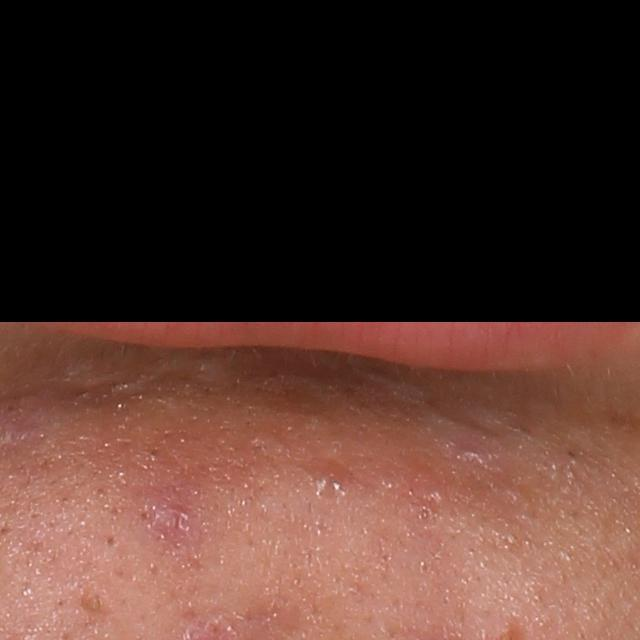comedo: (85, 593, 103, 612)
